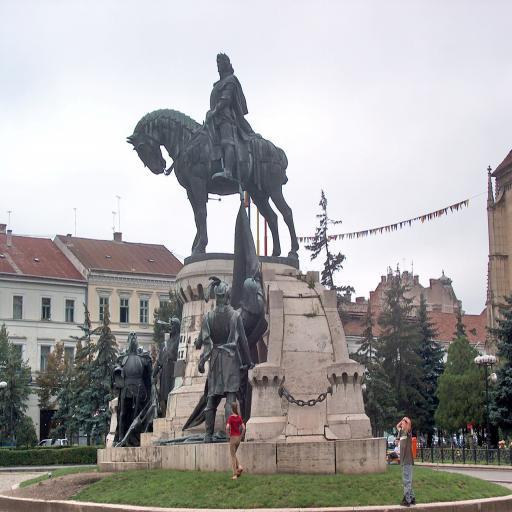horse: (126, 107, 300, 252)
